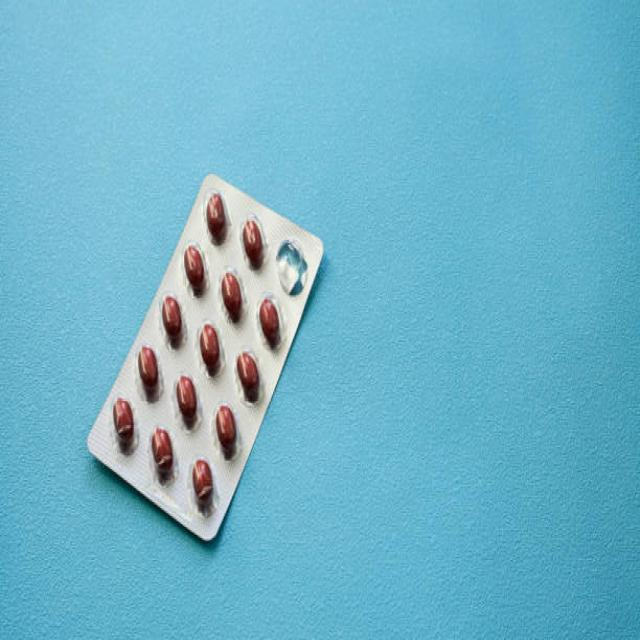Empty: (274, 231, 312, 294)
Pill: (106, 394, 142, 461), (147, 421, 178, 495), (186, 452, 216, 525), (213, 396, 242, 471), (172, 368, 202, 433), (203, 187, 234, 249), (233, 347, 264, 409), (157, 292, 188, 354), (134, 344, 165, 406), (215, 267, 246, 328), (258, 291, 287, 356), (181, 242, 212, 301), (240, 210, 268, 275), (199, 317, 227, 382)
